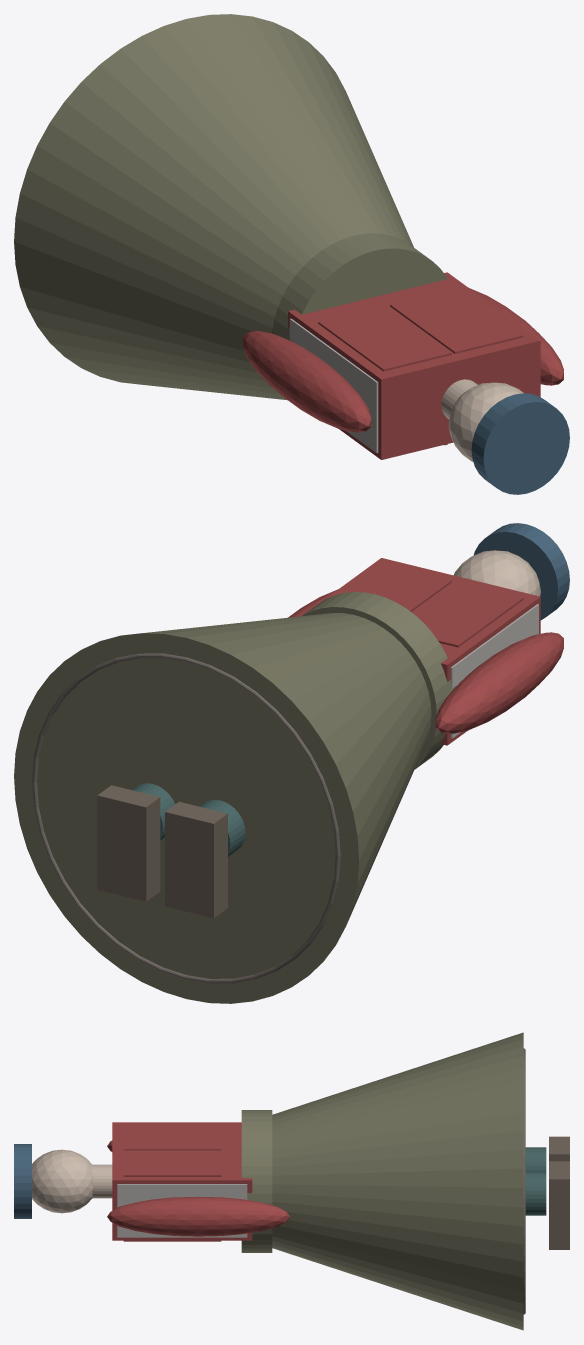
The model's file is MASTER_091_STAGE3_DETAIL.glb.
The picture shows the model from 3 angles, top to bottom: view 1: azimuth 30°, elevation 25°; view 2: azimuth 150°, elevation 25°; view 3: azimuth 270°, elevation 25°; orthographic projection. The views are drawn at different scales.
Visible parts, largest first — view 1: slot_lower_main__fund_i_gjatë, slot_upper_inner__këmishë, slot_waist__brez, slot_headwear__mbulesë_koke, slot_upper_inner_sleeve_L, slot_upper_outer__jelek_L, slot_upper_outer__jelek_R, mannequin_torso, mannequin_head, slot_upper_inner_sleeve_R, mannequin_neck; view 2: slot_lower_main__fund_i_gjatë, slot_footwear__opinga_R, slot_footwear__opinga_L, slot_upper_inner_sleeve_L, slot_waist__brez, detail_skirt_hem, slot_upper_outer__jelek_L, slot_headwear__mbulesë_koke, slot_upper_inner__këmishë, slot_upper_outer__jelek_R, mannequin_head, mannequin_torso (+2 smaller); view 3: slot_lower_main__fund_i_gjatë, slot_upper_inner_sleeve_R, slot_upper_inner__këmishë, slot_waist__brez, mannequin_head, slot_upper_outer__jelek_R, slot_upper_outer__jelek_L, mannequin_torso, slot_footwear__opinga_R, slot_headwear__mbulesë_koke, slot_legwear__çorape_R, detail_skirt_hem (+3 smaller).
Boxes of the visible parts, bbox=[...] form: slot_lower_main__fund_i_gjatë: bbox=[14, 14, 413, 400]; slot_upper_inner__këmishë: bbox=[288, 272, 540, 459]; slot_waist__brez: bbox=[272, 233, 447, 341]; slot_headwear__mbulesë_koke: bbox=[471, 393, 569, 494]; slot_upper_inner_sleeve_L: bbox=[243, 331, 371, 432]; slot_upper_outer__jelek_L: bbox=[318, 305, 451, 371]; slot_upper_outer__jelek_R: bbox=[390, 288, 523, 353]; mannequin_torso: bbox=[289, 318, 378, 453]; mannequin_head: bbox=[448, 382, 523, 461]; slot_upper_inner_sleeve_R: bbox=[469, 288, 563, 385]; mannequin_neck: bbox=[441, 379, 477, 419]; slot_lower_main__fund_i_gjatë: bbox=[14, 613, 431, 1003]; slot_footwear__opinga_R: bbox=[97, 785, 160, 901]; slot_footwear__opinga_L: bbox=[165, 801, 227, 918]; slot_upper_inner_sleeve_L: bbox=[435, 632, 563, 733]; slot_waist__brez: bbox=[301, 592, 456, 769]; detail_skirt_hem: bbox=[32, 653, 340, 983]; slot_upper_outer__jelek_L: bbox=[412, 581, 523, 647]; slot_headwear__mbulesë_koke: bbox=[473, 523, 569, 620]; slot_upper_inner__këmishë: bbox=[323, 558, 540, 745]; slot_upper_outer__jelek_R: bbox=[344, 564, 451, 611]; mannequin_head: bbox=[454, 550, 540, 596]; mannequin_torso: bbox=[450, 604, 538, 738]; slot_lower_main__fund_i_gjatë: bbox=[272, 1032, 523, 1330]; slot_upper_inner_sleeve_R: bbox=[107, 1196, 289, 1236]; slot_upper_inner__këmishë: bbox=[112, 1122, 252, 1240]; slot_waist__brez: bbox=[241, 1110, 272, 1252]; mannequin_head: bbox=[32, 1149, 93, 1213]; slot_upper_outer__jelek_R: bbox=[123, 1150, 221, 1241]; slot_upper_outer__jelek_L: bbox=[123, 1124, 221, 1150]; mannequin_torso: bbox=[117, 1184, 247, 1237]; slot_footwear__opinga_R: bbox=[549, 1161, 569, 1249]; slot_headwear__mbulesë_koke: bbox=[14, 1144, 31, 1218]; slot_legwear__çorape_R: bbox=[525, 1172, 546, 1215]; detail_skirt_hem: bbox=[523, 1048, 525, 1314].
Size of the model in its own units: 0.9181 by 0.9181 by 1.71.
